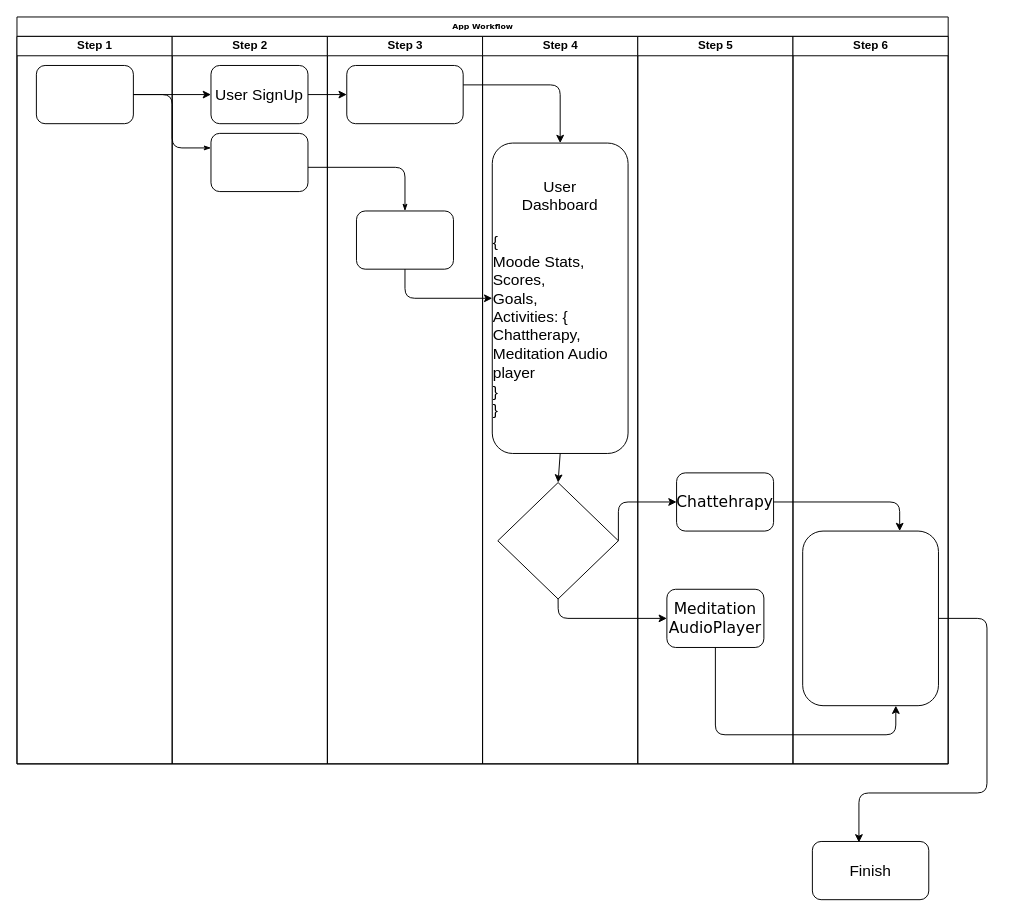
The diagram is 1012 pixels wide and 917 high, and some of its shapes have lost their labels. The centre of each missing label's shape, as x and y in pixels:
"Choose Activity" belongs at [557,540].
"Daily Mood Survey" belongs at [404,239].
"Mental Health Test DB7" belongs at [404,94].
"Start" belongs at [84,94].
"Track Progress Updates: Moode Stats, Scores, Goals Accomplishments" belongs at [870,618].
"User Login" belongs at [259,162].
